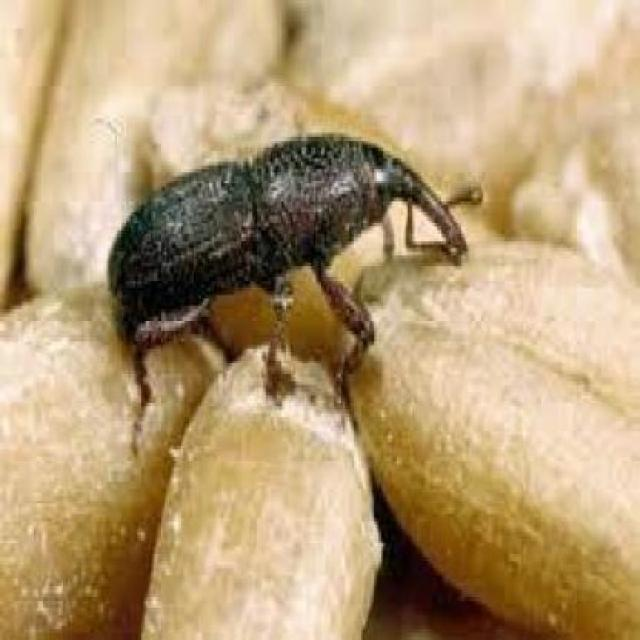rice-bug: (110, 134, 483, 455)
